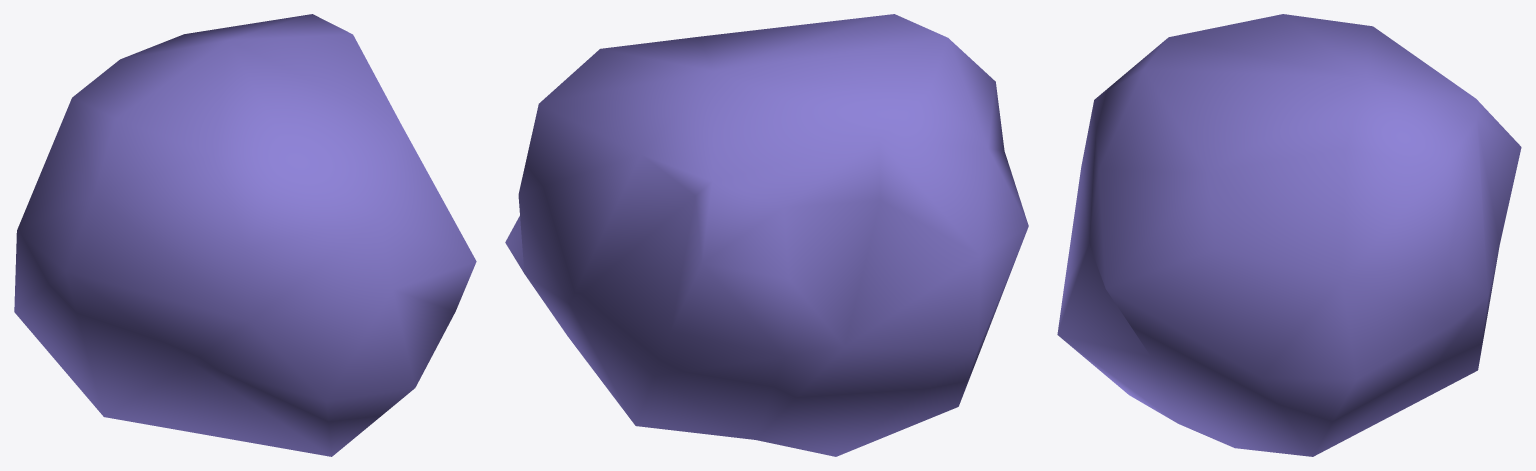
Rendered from Rock_Small_02.fbx.
3 views of the same model, side by side, from view 1: azimuth 30°, elevation 25°; view 2: azimuth 150°, elevation 25°; view 3: azimuth 270°, elevation 25° (orthographic). The views are drawn at different scales.
Parts seen in each view (by area): view 1: Rock_Small_02; view 2: Rock_Small_02; view 3: Rock_Small_02.
Boxes of the visible parts, x1,y1,x2,y2 form: Rock_Small_02: (14, 14, 476, 456); Rock_Small_02: (505, 14, 1028, 456); Rock_Small_02: (1057, 14, 1521, 456).
Bounding box in the file's own units: 43.27 × 33.24 × 41.33.
